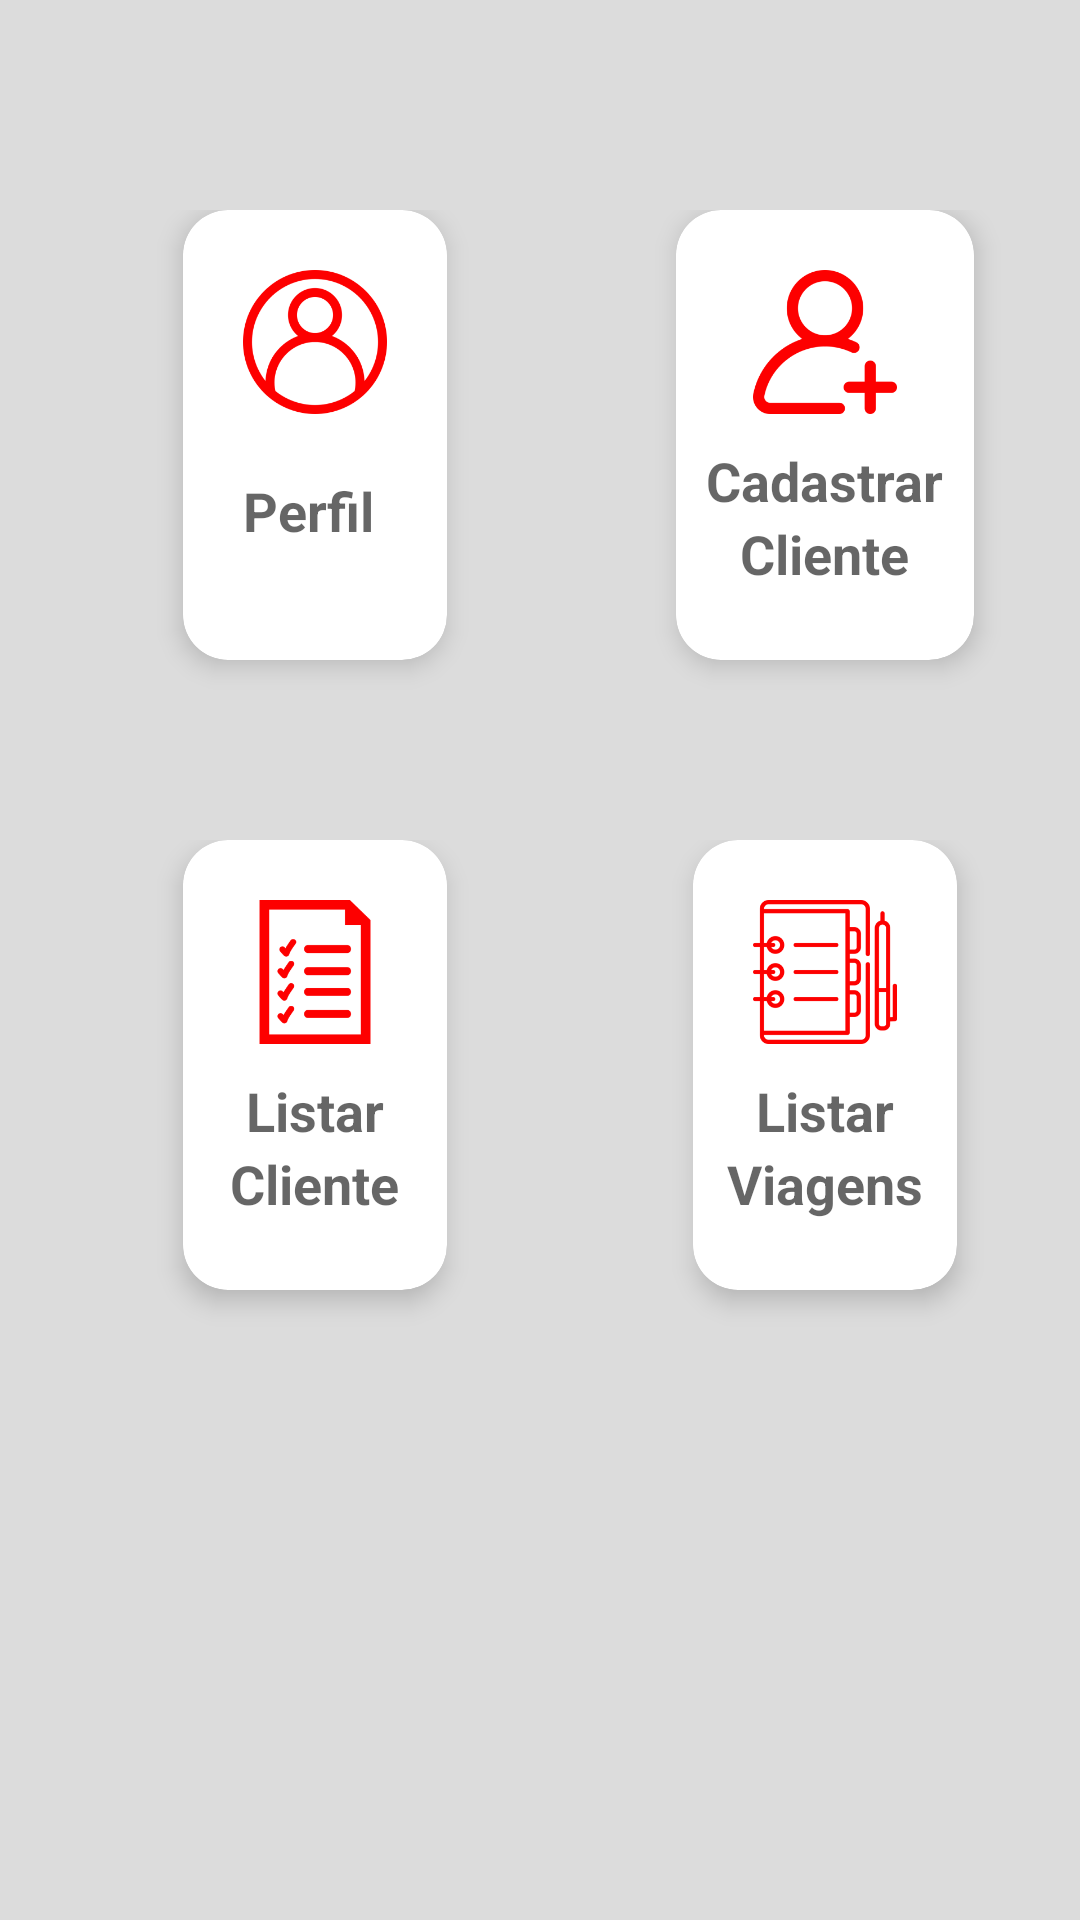

Locate icon controls on the screen. Image size 1080px×1920px, boxes as (x1, y1, x2, y2).
adicionar: (753, 270, 897, 414)
agenda: (753, 900, 897, 1044)
pessoa: (243, 270, 387, 414)
